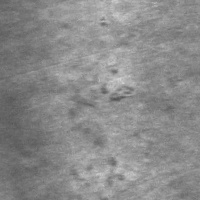rolled-in_scale: (65, 65, 144, 199)
